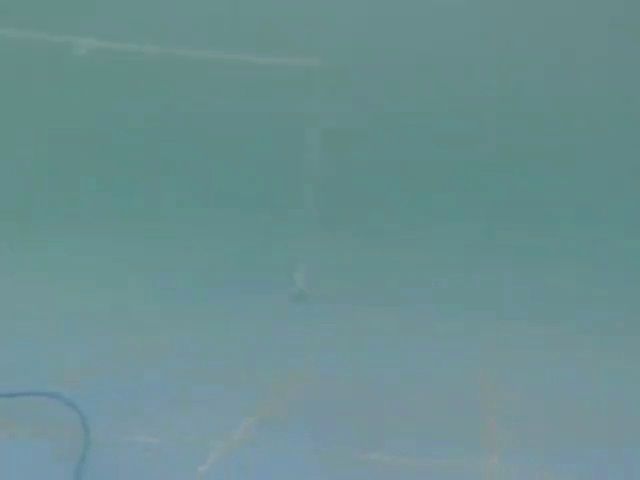gate: (0, 0, 374, 330)
